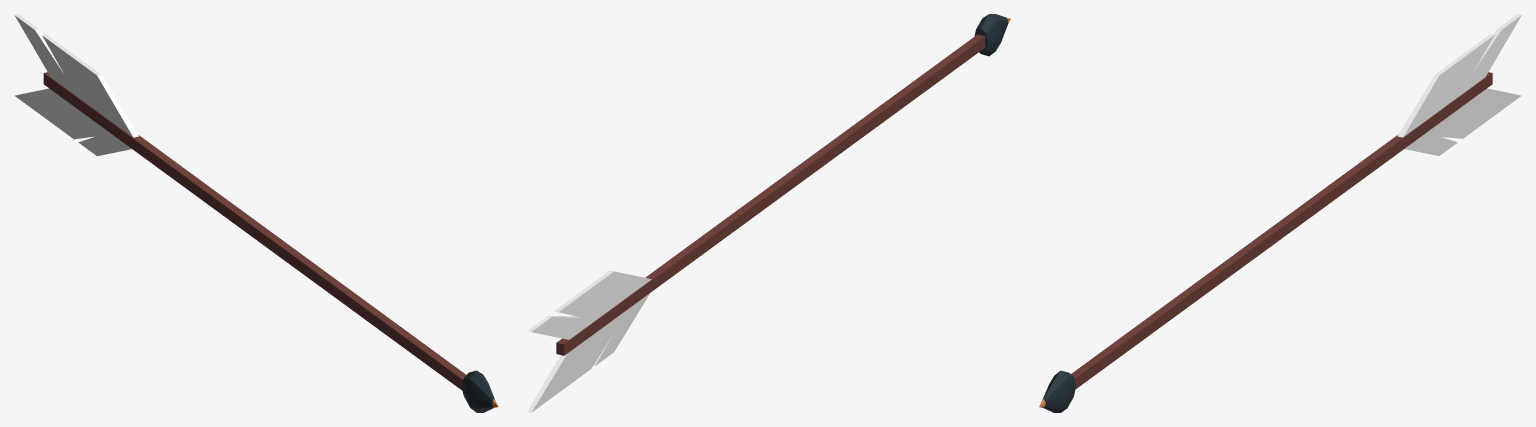
The model's file is Arrow Stone 01.fbx.
3 views of the same model, side by side, from view 1: azimuth 30°, elevation 25°; view 2: azimuth 150°, elevation 25°; view 3: azimuth 330°, elevation 25° (orthographic).
Visible parts, largest first — view 1: Arrow Stone 01; view 2: Arrow Stone 01; view 3: Arrow Stone 01.
Part boxes in pixels (x1,y1,x2,y2): Arrow Stone 01: (14,14,498,412); Arrow Stone 01: (527,14,1010,412); Arrow Stone 01: (1039,14,1521,412).
Bounding box in the file's own units: 2.14 × 8.78 × 94.96.
